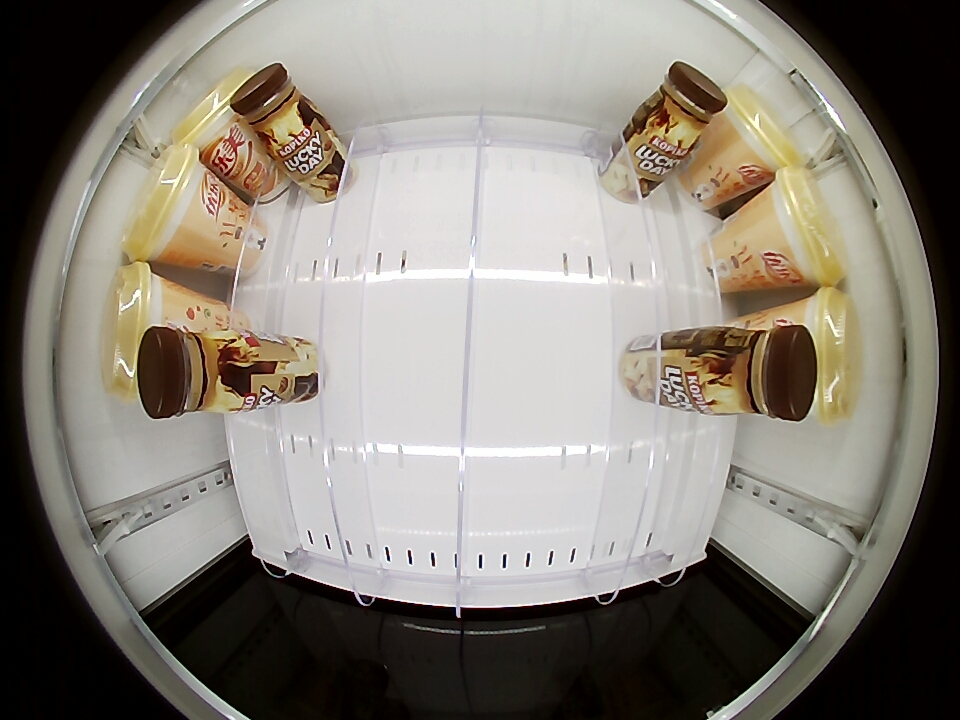lujikafei: (704, 324, 817, 421), (136, 323, 246, 419), (642, 61, 727, 148), (230, 62, 313, 144)
youlemei: (123, 141, 216, 266), (766, 165, 847, 289), (101, 262, 169, 406), (798, 286, 860, 422), (719, 85, 800, 178), (173, 70, 246, 153)
